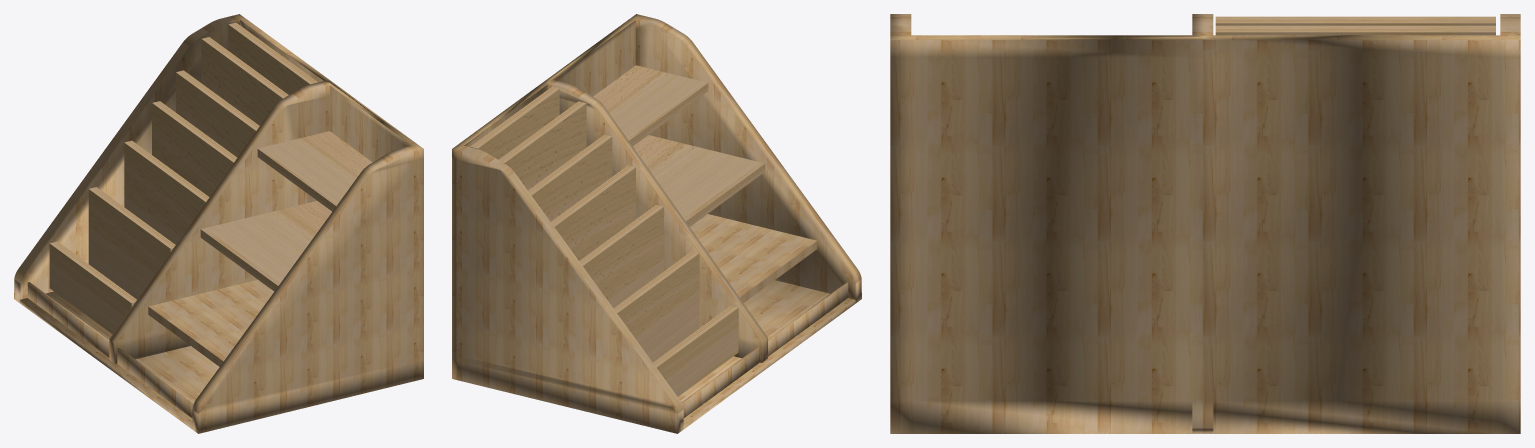
The model's file is book-shelf.glb.
3 renders of one model, left to right at view 1: azimuth 30°, elevation 25°; view 2: azimuth 150°, elevation 25°; view 3: azimuth 270°, elevation 25°, orthographic. The views are drawn at different scales.
Parts seen in each view (by area): view 1: Cube, Cube.002, Cube.005, Cube.001, Cube.006, Cube.003, Cube.008, Cube.004, Cube.009, Cube.007, Cube.010; view 2: Cube, Cube.002, Cube.001, Cube.005, Cube.003, Cube.006, Cube.008, Cube.004, Cube.009, Cube.007, Cube.010; view 3: Cube, Cube.010, Cube.009.
Boxes of the visible parts, <box> form: Cube: <box>14,14,423,433</box>; Cube.002: <box>200,201,331,291</box>; Cube.005: <box>88,187,175,299</box>; Cube.001: <box>148,280,274,366</box>; Cube.006: <box>124,140,209,244</box>; Cube.003: <box>257,131,372,211</box>; Cube.008: <box>152,101,237,196</box>; Cube.004: <box>49,241,136,333</box>; Cube.009: <box>201,37,288,125</box>; Cube.007: <box>176,70,259,157</box>; Cube.010: <box>228,22,317,94</box>; Cube: <box>452,14,861,433</box>; Cube.002: <box>633,135,765,226</box>; Cube.001: <box>690,214,817,302</box>; Cube.005: <box>613,251,699,362</box>; Cube.003: <box>593,65,708,146</box>; Cube.006: <box>579,205,663,307</box>; Cube.008: <box>551,165,635,260</box>; Cube.004: <box>653,306,738,396</box>; Cube.009: <box>499,101,586,190</box>; Cube.007: <box>528,134,612,221</box>; Cube.010: <box>470,87,559,159</box>; Cube: <box>890,14,1520,433</box>; Cube.010: <box>1215,25,1495,35</box>; Cube.009: <box>1215,16,1495,25</box>.
Size of the model in its own units: 4.23 by 4.13 by 5.99.
2 materials, 2 textured.
